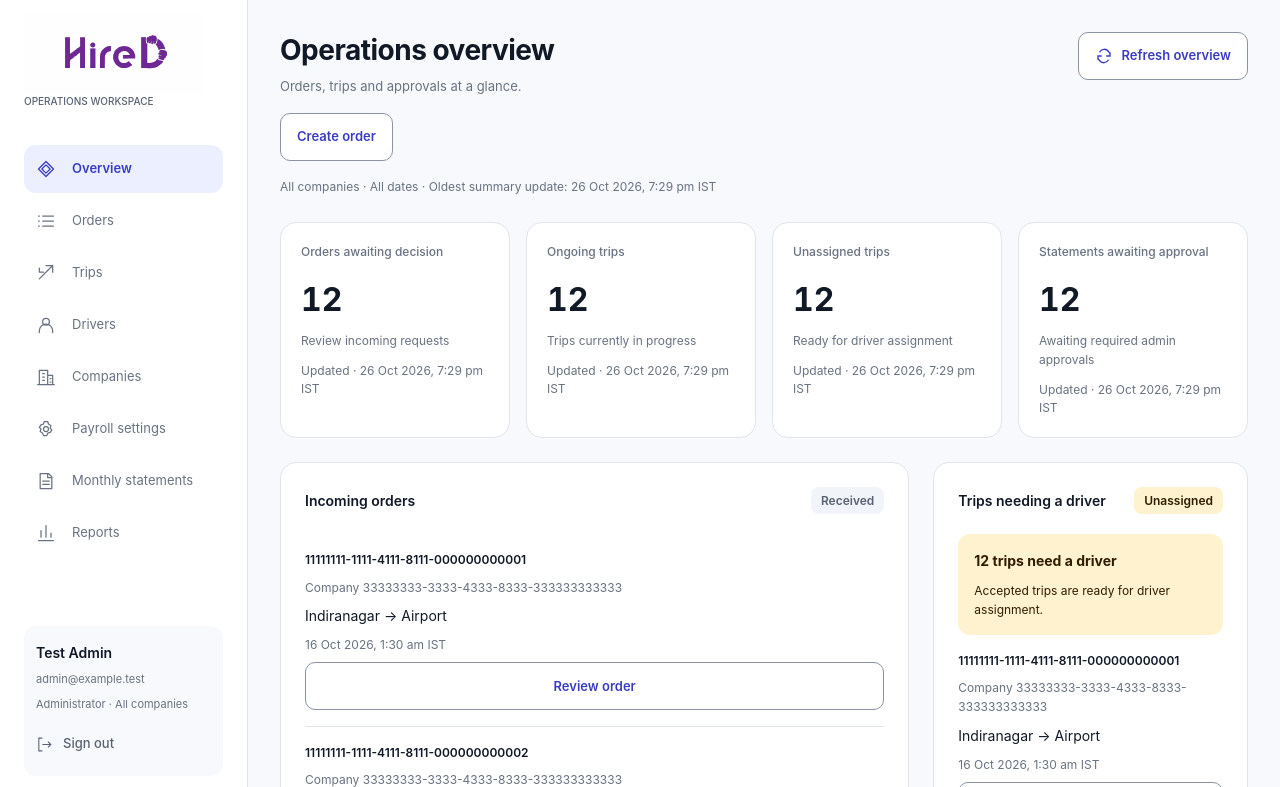
it: operations overview › retains a failed refresh as explicitly stale data with its original update time
This screenshot has width=1280, height=787.
(page scrolled)
Click the button "Refresh overview".
click(1163, 56)  # box 1078,32 -> 1248,80
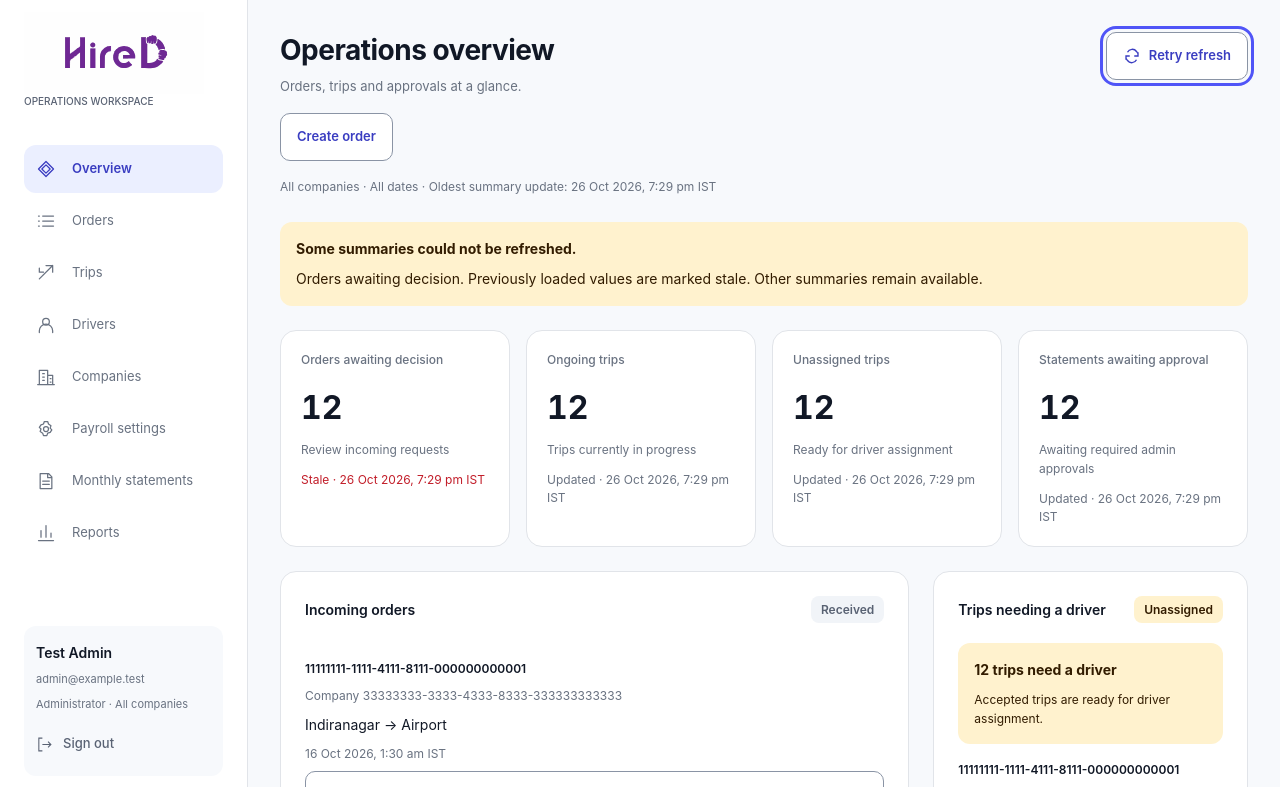
Check: the 1st text "12" is shown, box 301,388 -> 342,427
Check: the message that starts with "Some summaries could not be refreshed." shows "Previously loaded values are marked stale.", box 468,270 -> 750,287
Check: the text "Stale · 26 Oct 2026, 7:29 pm IST" is shown, box 301,471 -> 489,489
